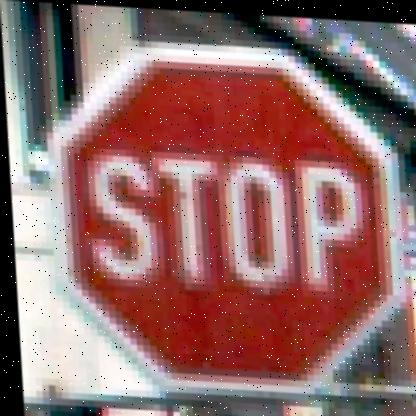Stop Sign: (38, 35, 408, 402)
